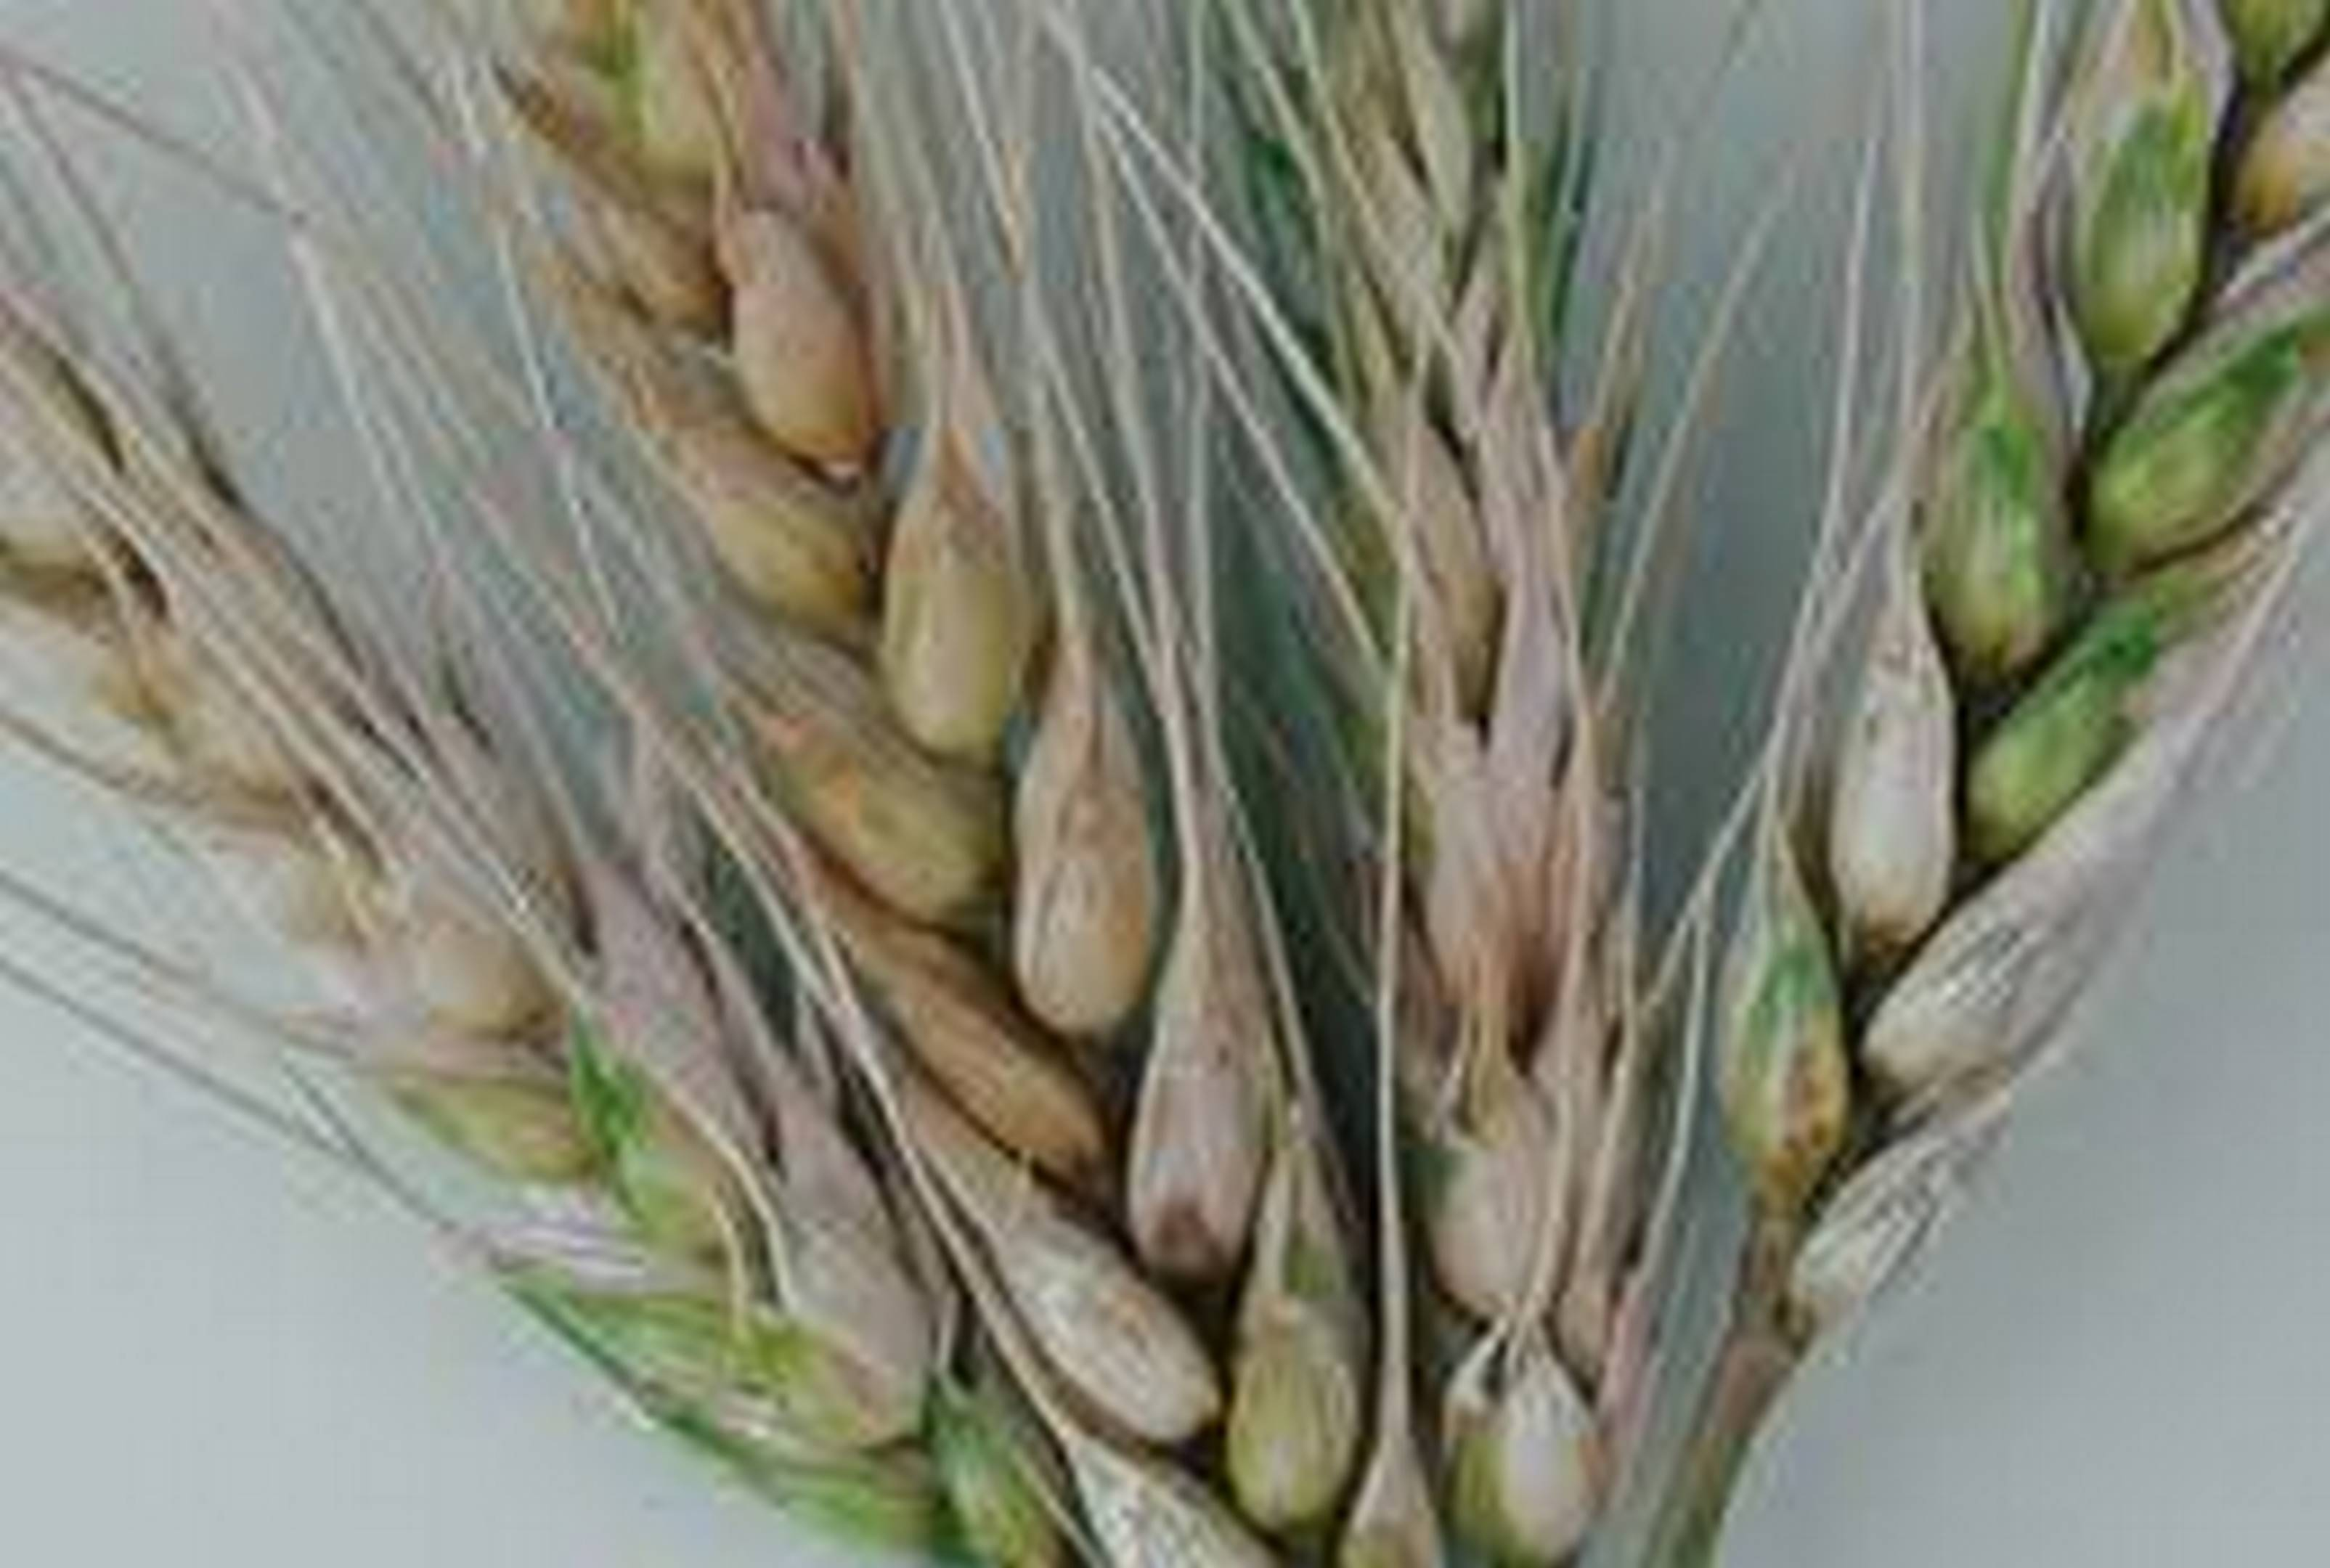Wheat scab: (1285, 100, 2316, 1556), (21, 422, 984, 1521)
